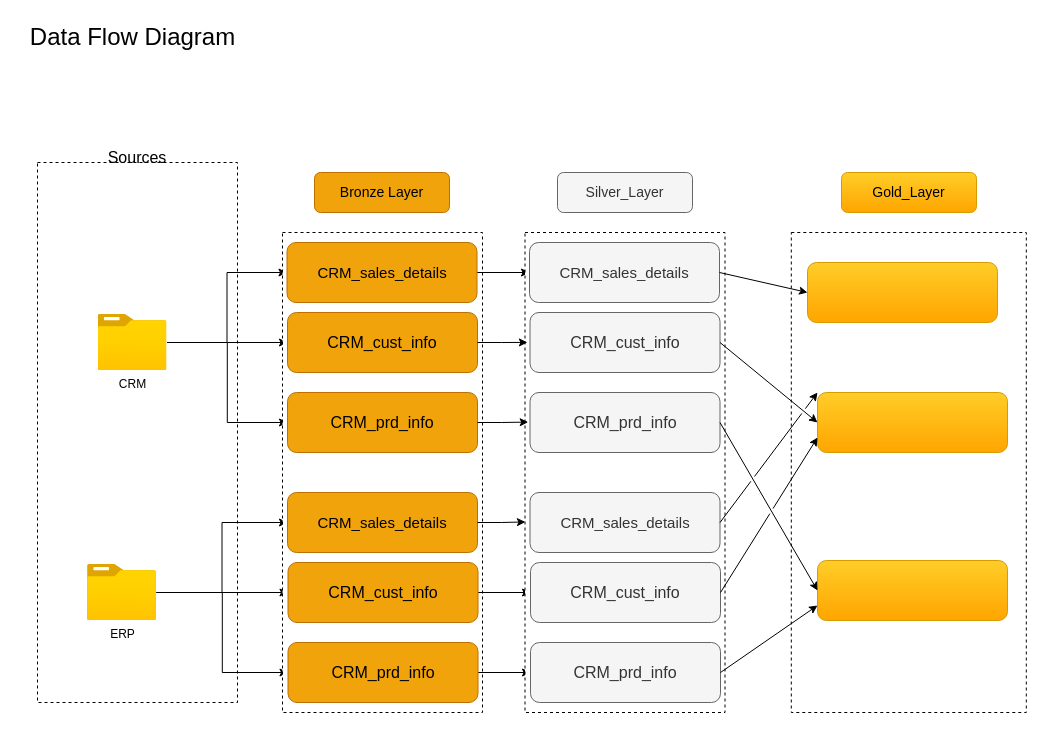
This 1044x730 diagram has some shape labels left out. The shapes that lost their labels are listed below. From the top down, each one's centre as x and y in pixels, then its label:
At (902,292): "fact_sales".
At (912,422): "dim_customers".
At (912,590): "dim_products".
